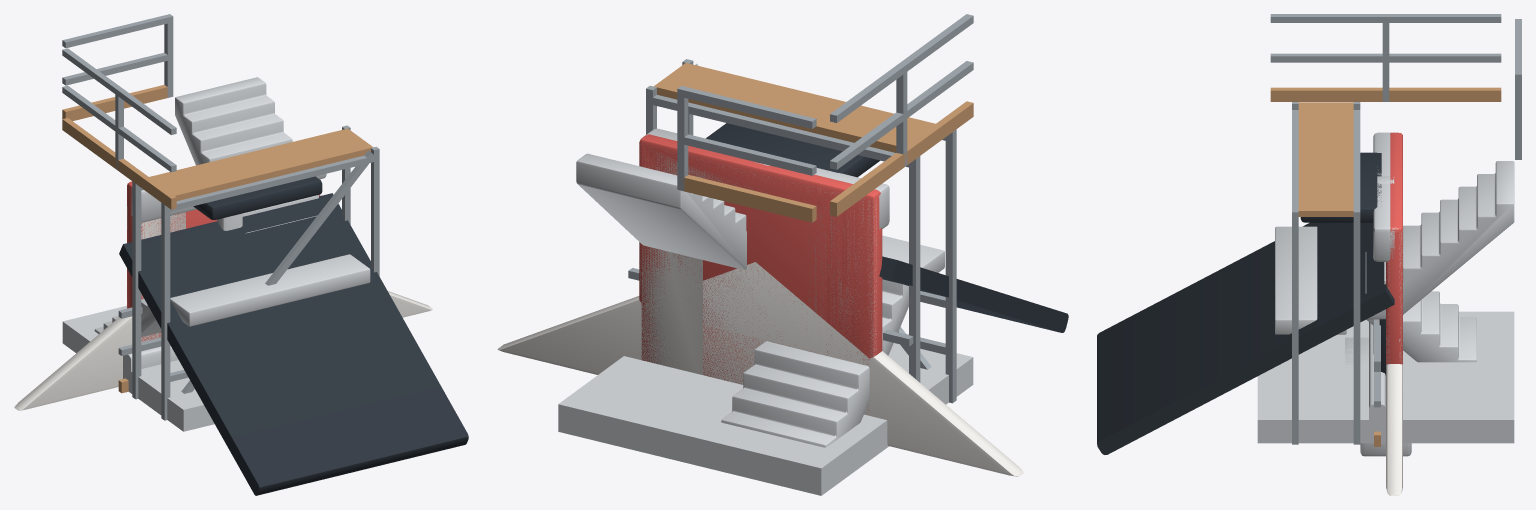
Rendered from BLD_KIT_A_v001.glb.
The picture shows the model from 3 angles, left to right: view 1: azimuth 30°, elevation 25°; view 2: azimuth 150°, elevation 25°; view 3: azimuth 270°, elevation 25°; orthographic projection. The views are drawn at different scales.
Visible parts, largest first — view 1: BLD_KIT_A_ROOF_SLOPE, BLD_KIT_A_STAIR, BLD_KIT_A_SCAFFOLD, BLD_KIT_A_ROOF_GABLE, BLD_KIT_A_SLAB, BLD_KIT_A_CANOPY, BLD_KIT_A_WALL_BRICK, BLD_KIT_A_WALL_RENDER_DOOR, BLD_KIT_A_BEAM, BLD_KIT_A_ROOF_PARAPET, BLD_KIT_A_GUARDRAIL; view 2: BLD_KIT_A_STAIR, BLD_KIT_A_ROOF_GABLE, BLD_KIT_A_SLAB, BLD_KIT_A_WALL_BRICK, BLD_KIT_A_SCAFFOLD, BLD_KIT_A_WALL_BRICK_WINDOW, BLD_KIT_A_WALL_RENDER_DOOR, BLD_KIT_A_ROOF_SLOPE, BLD_KIT_A_CANOPY, BLD_KIT_A_BEAM; view 3: BLD_KIT_A_ROOF_SLOPE, BLD_KIT_A_STAIR, BLD_KIT_A_SLAB, BLD_KIT_A_SCAFFOLD, BLD_KIT_A_WALL_BRICK, BLD_KIT_A_ROOF_GABLE, BLD_KIT_A_BEAM, BLD_KIT_A_CANOPY, BLD_KIT_A_ROOF_PARAPET, BLD_KIT_A_GUARDRAIL, BLD_KIT_A_STEPS.
Boxes of the visible parts, x1,y1,x2,y2 form: BLD_KIT_A_ROOF_SLOPE: [119, 193, 468, 495]; BLD_KIT_A_STAIR: [62, 14, 370, 336]; BLD_KIT_A_SCAFFOLD: [132, 125, 379, 420]; BLD_KIT_A_ROOF_GABLE: [14, 291, 432, 410]; BLD_KIT_A_SLAB: [62, 305, 214, 431]; BLD_KIT_A_CANOPY: [193, 176, 322, 219]; BLD_KIT_A_WALL_BRICK: [127, 179, 320, 341]; BLD_KIT_A_WALL_RENDER_DOOR: [127, 187, 319, 341]; BLD_KIT_A_BEAM: [131, 173, 326, 222]; BLD_KIT_A_ROOF_PARAPET: [123, 345, 178, 391]; BLD_KIT_A_GUARDRAIL: [118, 307, 161, 393]; BLD_KIT_A_STAIR: [576, 14, 973, 447]; BLD_KIT_A_ROOF_GABLE: [497, 262, 1023, 476]; BLD_KIT_A_SLAB: [558, 343, 973, 495]; BLD_KIT_A_WALL_BRICK: [639, 134, 882, 382]; BLD_KIT_A_SCAFFOLD: [646, 59, 956, 403]; BLD_KIT_A_WALL_BRICK_WINDOW: [639, 138, 876, 414]; BLD_KIT_A_WALL_RENDER_DOOR: [639, 135, 876, 374]; BLD_KIT_A_ROOF_SLOPE: [879, 256, 1068, 332]; BLD_KIT_A_CANOPY: [706, 123, 879, 177]; BLD_KIT_A_BEAM: [647, 128, 889, 229]; BLD_KIT_A_ROOF_SLOPE: [1097, 222, 1394, 454]; BLD_KIT_A_STAIR: [1270, 14, 1521, 362]; BLD_KIT_A_SLAB: [1257, 311, 1514, 443]; BLD_KIT_A_SCAFFOLD: [1292, 102, 1360, 444]; BLD_KIT_A_WALL_BRICK: [1386, 132, 1402, 364]; BLD_KIT_A_ROOF_GABLE: [1386, 364, 1402, 495]; BLD_KIT_A_BEAM: [1373, 132, 1394, 261]; BLD_KIT_A_CANOPY: [1300, 152, 1381, 222]; BLD_KIT_A_ROOF_PARAPET: [1369, 322, 1385, 443]; BLD_KIT_A_GUARDRAIL: [1374, 319, 1380, 446]; BLD_KIT_A_STEPS: [1345, 337, 1368, 371].
Size of the model in its own units: 5.95 by 4.6 by 4.97.
